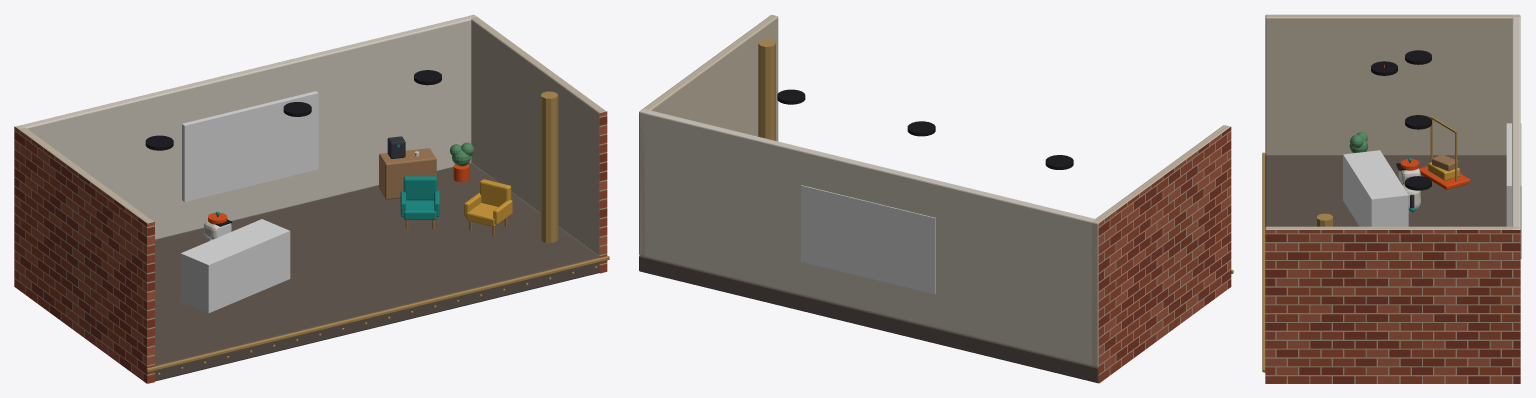
Rendered from booking.glb.
3 views of the same model, side by side, from view 1: azimuth 30°, elevation 25°; view 2: azimuth 150°, elevation 25°; view 3: azimuth 270°, elevation 25° (orthographic). The views are drawn at different scales.
Parts seen in each view (by area): view 1: static, hit__board, hit__concierge; view 2: static, hit__board; view 3: static, hit__concierge, hit__board, dyn__concierge__head.
Boxes of the visible parts, bbox=[...] form: static: bbox=[14, 14, 609, 383]; hit__board: bbox=[182, 91, 318, 201]; hit__concierge: bbox=[180, 219, 290, 313]; static: bbox=[639, 15, 1233, 383]; hit__board: bbox=[801, 185, 935, 294]; static: bbox=[1262, 14, 1520, 383]; hit__concierge: bbox=[1343, 150, 1408, 226]; hit__board: bbox=[1506, 123, 1521, 259]; dyn__concierge__head: bbox=[1396, 158, 1420, 185].
Size of the model in its own units: 12.06 by 4.03 by 6.1.
